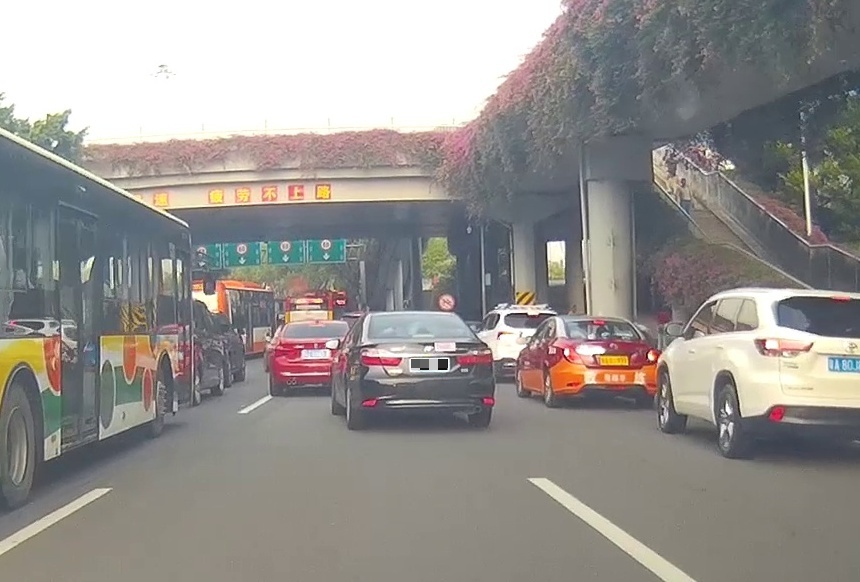L_light: (358, 347, 402, 366), (562, 344, 585, 364)
R_light: (454, 347, 493, 364), (644, 346, 659, 366)
T_light: (412, 334, 434, 338), (593, 320, 604, 324)
day-no: (353, 311, 495, 429)
day-right: (557, 316, 661, 407)
plate_1: (411, 359, 448, 370)
